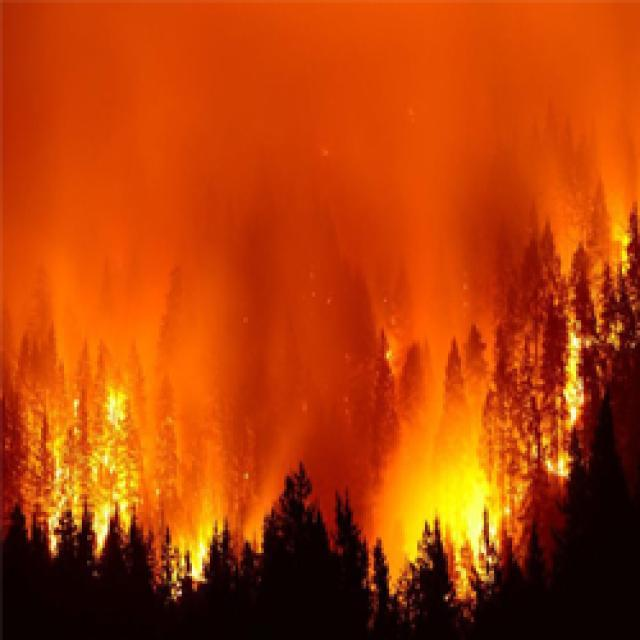Fire: (42, 385, 139, 561), (414, 460, 504, 586), (530, 332, 588, 478), (176, 518, 223, 582)
Smoke: (0, 0, 640, 332), (140, 330, 415, 518), (414, 331, 494, 458), (0, 331, 137, 384)
